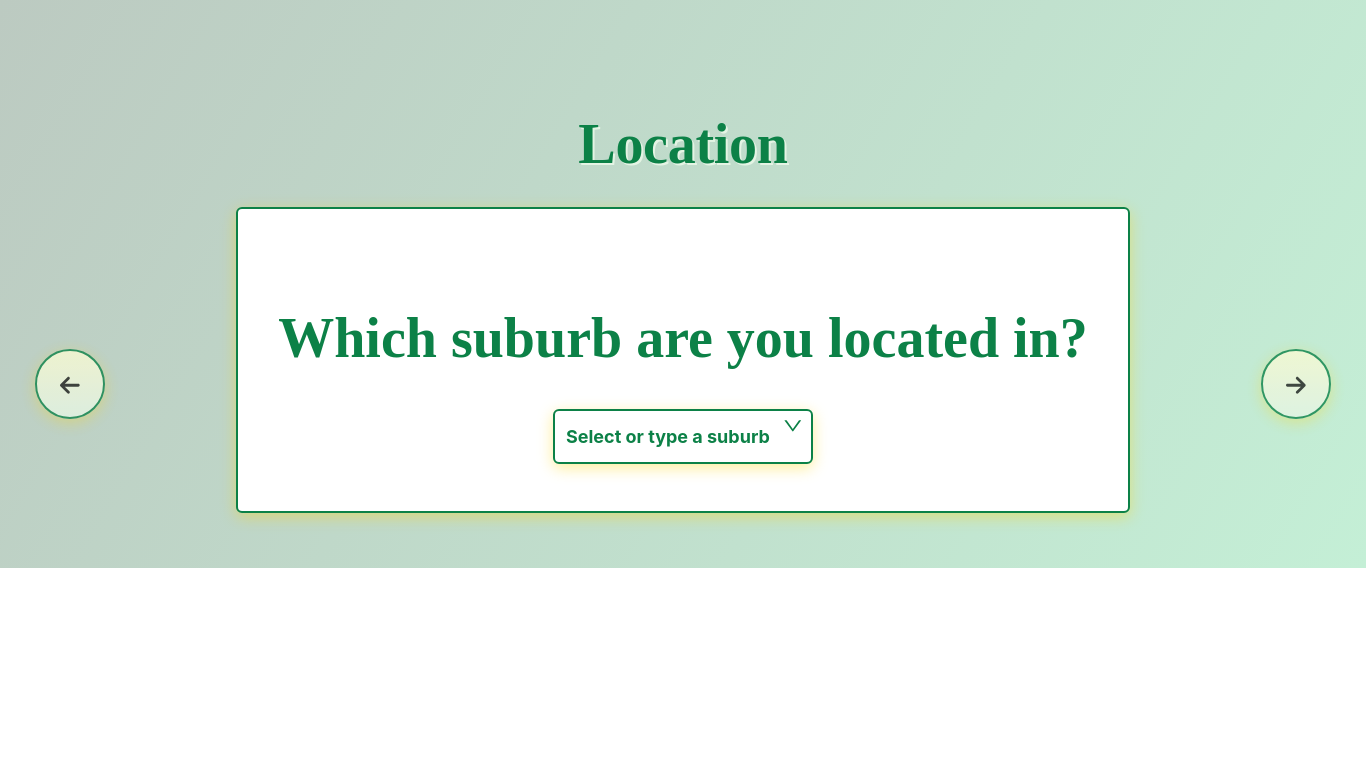
Test case: <LocationStep /> › shows error when proceeding without selecting a suburb
Click the button with test id "next-button" at (1296, 384), box 1261,349 -> 1331,419
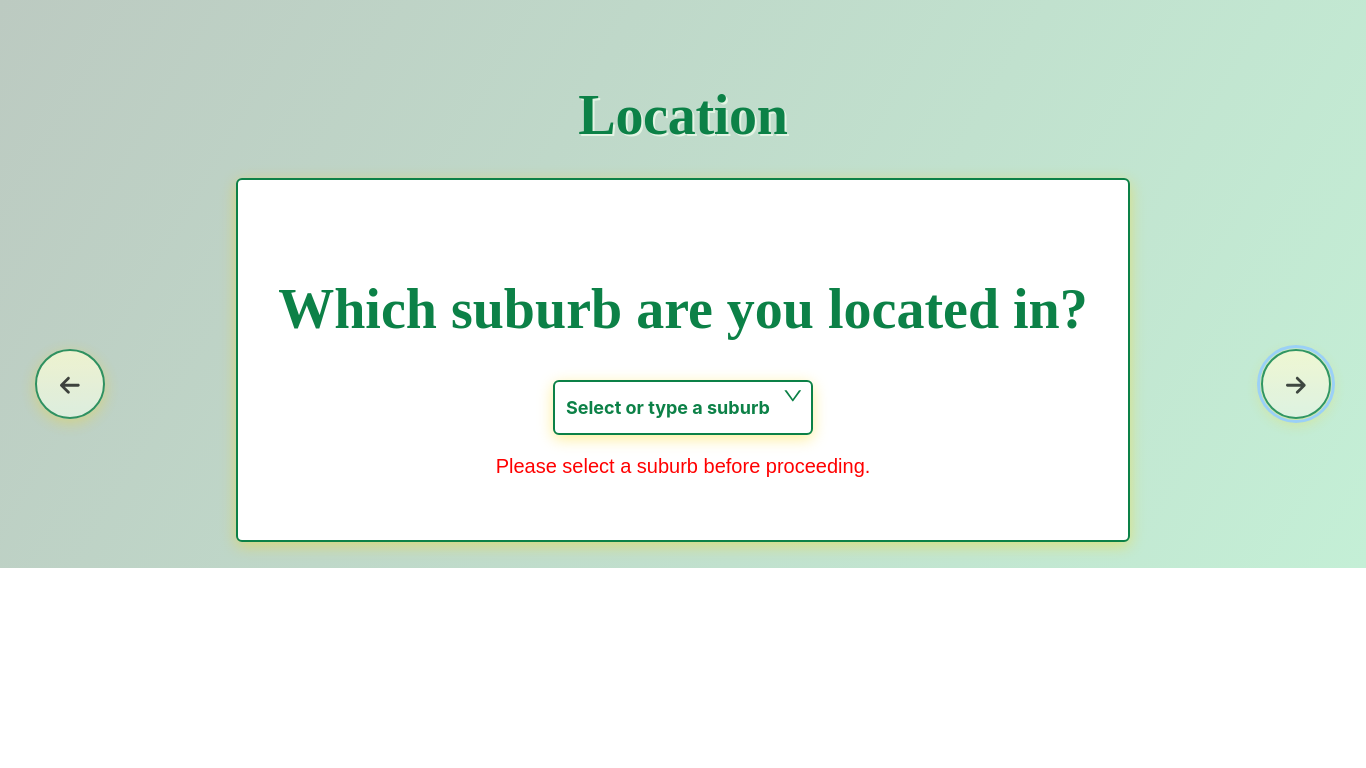
Expected: the text "Please select a suburb before proceeding." is shown, 496,452 -> 870,480
